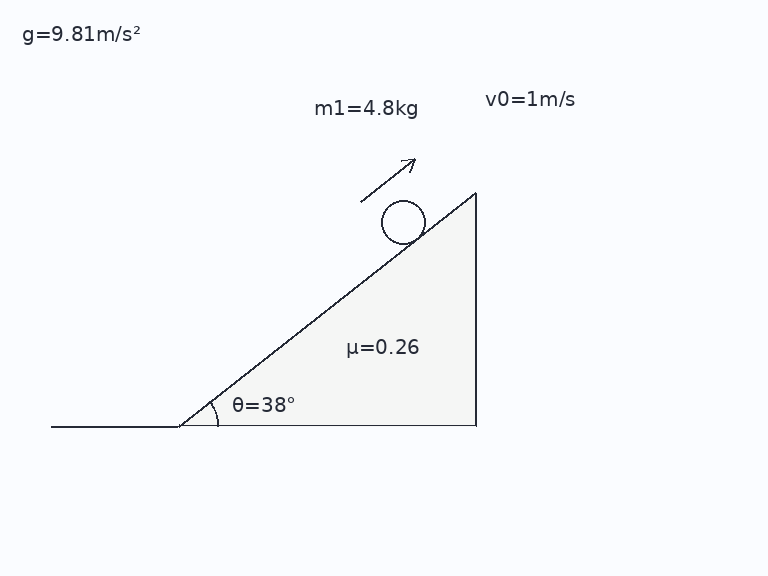ball: (379, 198, 427, 246)
ramp: (176, 191, 478, 428)
